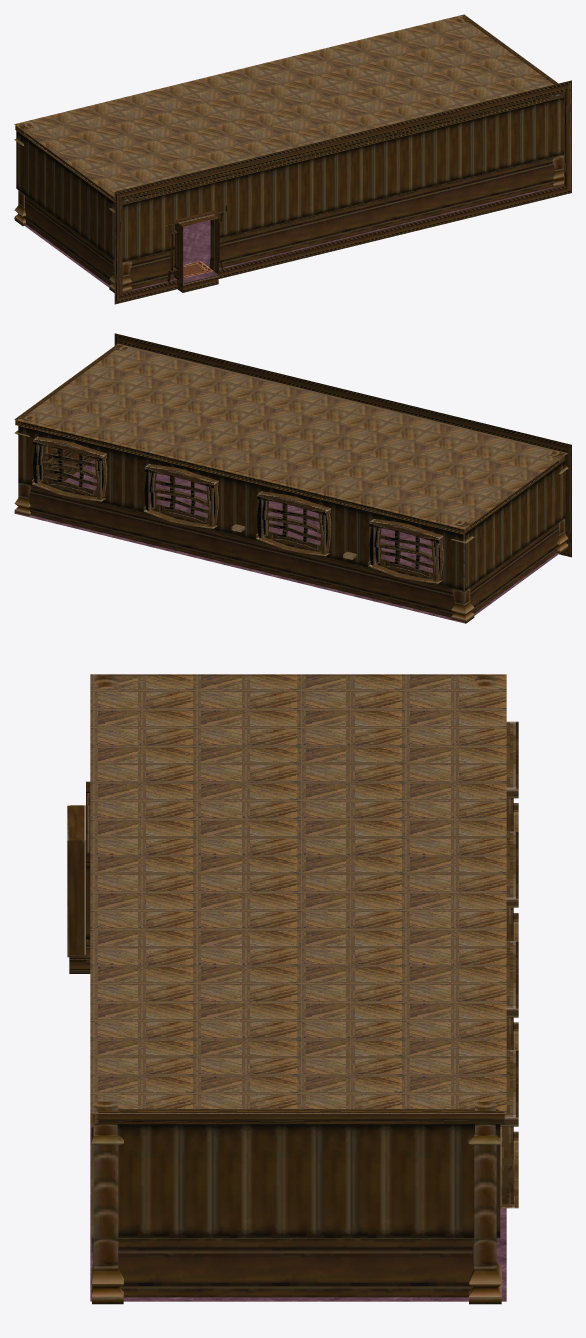
The model's file is Conservatory F1.dae.
3 renders of one model, top to bottom at view 1: azimuth 30°, elevation 25°; view 2: azimuth 150°, elevation 25°; view 3: azimuth 270°, elevation 25°, orthographic. The views are drawn at different scales.
Parts seen in each view (by area): view 1: Batch_24.009, Batch_22.009, Batch_1.016, Batch_3.016, Batch_23.009, Batch_21.009, Batch_4.016, Batch_9.016, Batch_19.009, Batch_2.016, Batch_20.009; view 2: Batch_24.009, Batch_17.011, Batch_1.016, Batch_12.015, Batch_13.014, Batch_23.009, Batch_4.016, Batch_5.016, Batch_9.016, Batch_2.016, Batch_3.016; view 3: Batch_24.009, Batch_1.016, Batch_9.016, Batch_13.014, Batch_2.016, Batch_20.009, Batch_4.016, Batch_10.016, Batch_19.009.
Part boxes in pixels (x1,y1,x2,y2): Batch_24.009: [14, 14, 558, 197]; Batch_22.009: [122, 97, 563, 289]; Batch_1.016: [16, 131, 114, 285]; Batch_3.016: [114, 90, 571, 304]; Batch_23.009: [114, 80, 571, 201]; Batch_21.009: [122, 95, 563, 204]; Batch_4.016: [14, 185, 563, 292]; Batch_9.016: [14, 138, 563, 292]; Batch_19.009: [165, 205, 226, 282]; Batch_2.016: [15, 15, 557, 202]; Batch_20.009: [178, 214, 218, 284]; Batch_24.009: [14, 343, 567, 529]; Batch_17.011: [18, 426, 463, 617]; Batch_1.016: [44, 446, 565, 613]; Batch_12.015: [38, 445, 435, 577]; Batch_13.014: [32, 436, 443, 583]; Batch_23.009: [114, 333, 571, 454]; Batch_4.016: [14, 459, 559, 623]; Batch_5.016: [15, 418, 463, 534]; Batch_9.016: [14, 430, 568, 623]; Batch_2.016: [15, 345, 565, 534]; Batch_3.016: [114, 343, 571, 557]; Batch_24.009: [90, 674, 506, 1113]; Batch_1.016: [117, 1124, 500, 1297]; Batch_9.016: [91, 1126, 501, 1304]; Batch_13.014: [500, 721, 518, 1208]; Batch_2.016: [96, 675, 504, 1124]; Batch_20.009: [67, 805, 85, 957]; Batch_4.016: [69, 955, 506, 1301]; Batch_10.016: [94, 676, 495, 1135]; Batch_19.009: [86, 781, 90, 963].
Size of the model in its own units: 255 by 109 by 60.
Materials: 22 (22 with a texture image).
